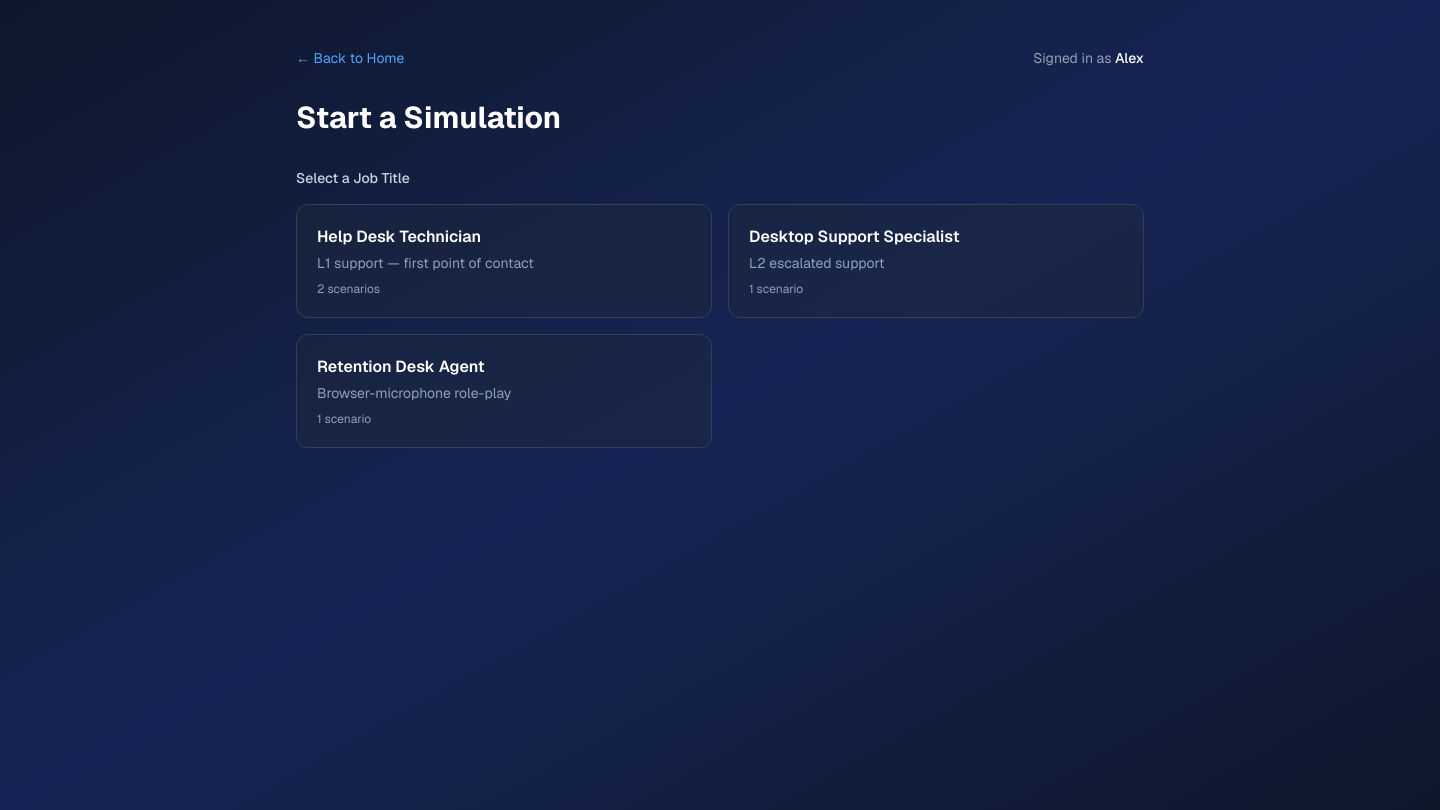
SimulatePage — job and scenario selection › clicking a job card selects it and shows its scenarios
Click the heading "Help Desk Technician": (399, 236) left=317, top=226, right=481, bottom=247
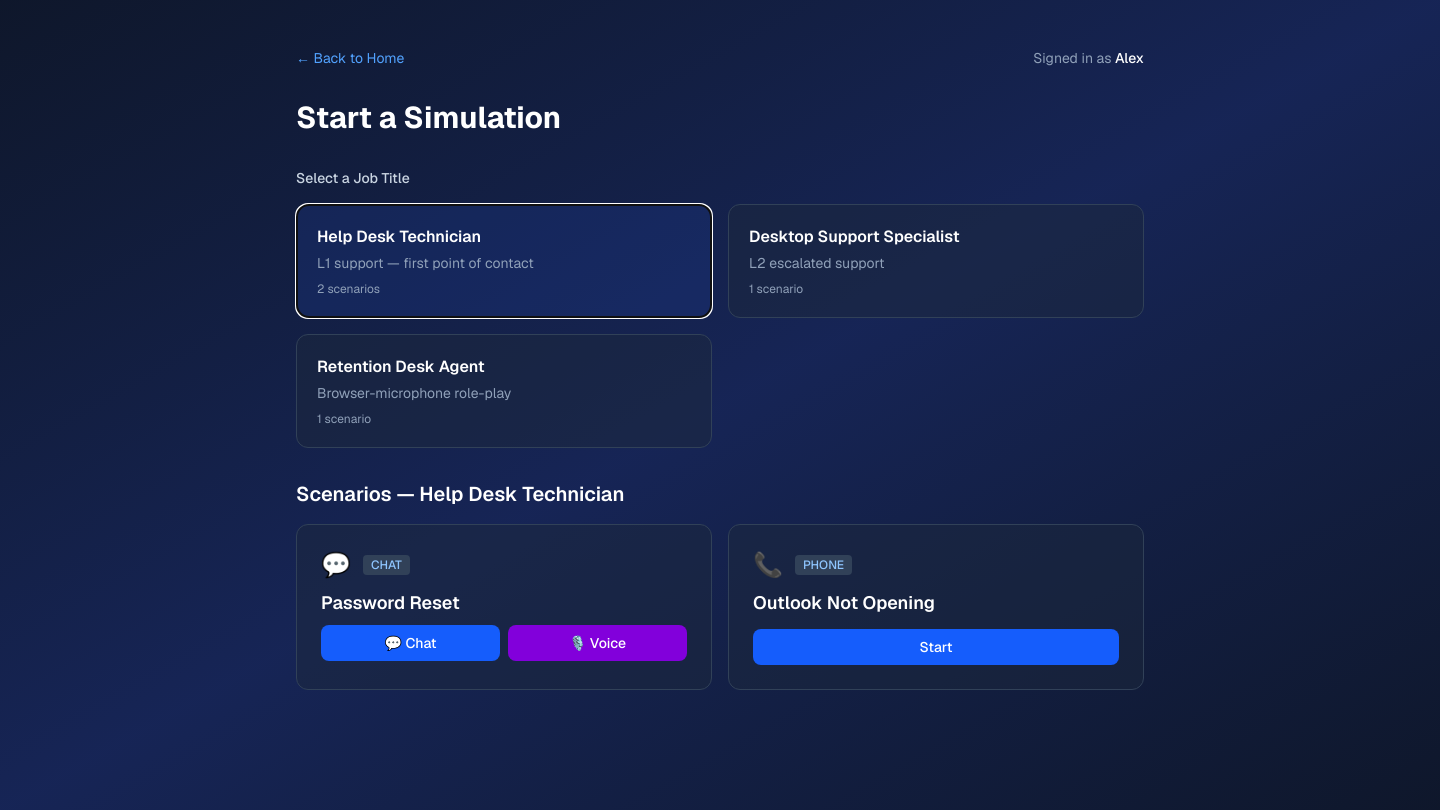
expect the heading "Password Reset" is shown: met, box left=321, top=591, right=460, bottom=614
expect the heading "Outlook Not Opening" is shown: met, box left=753, top=591, right=935, bottom=614
